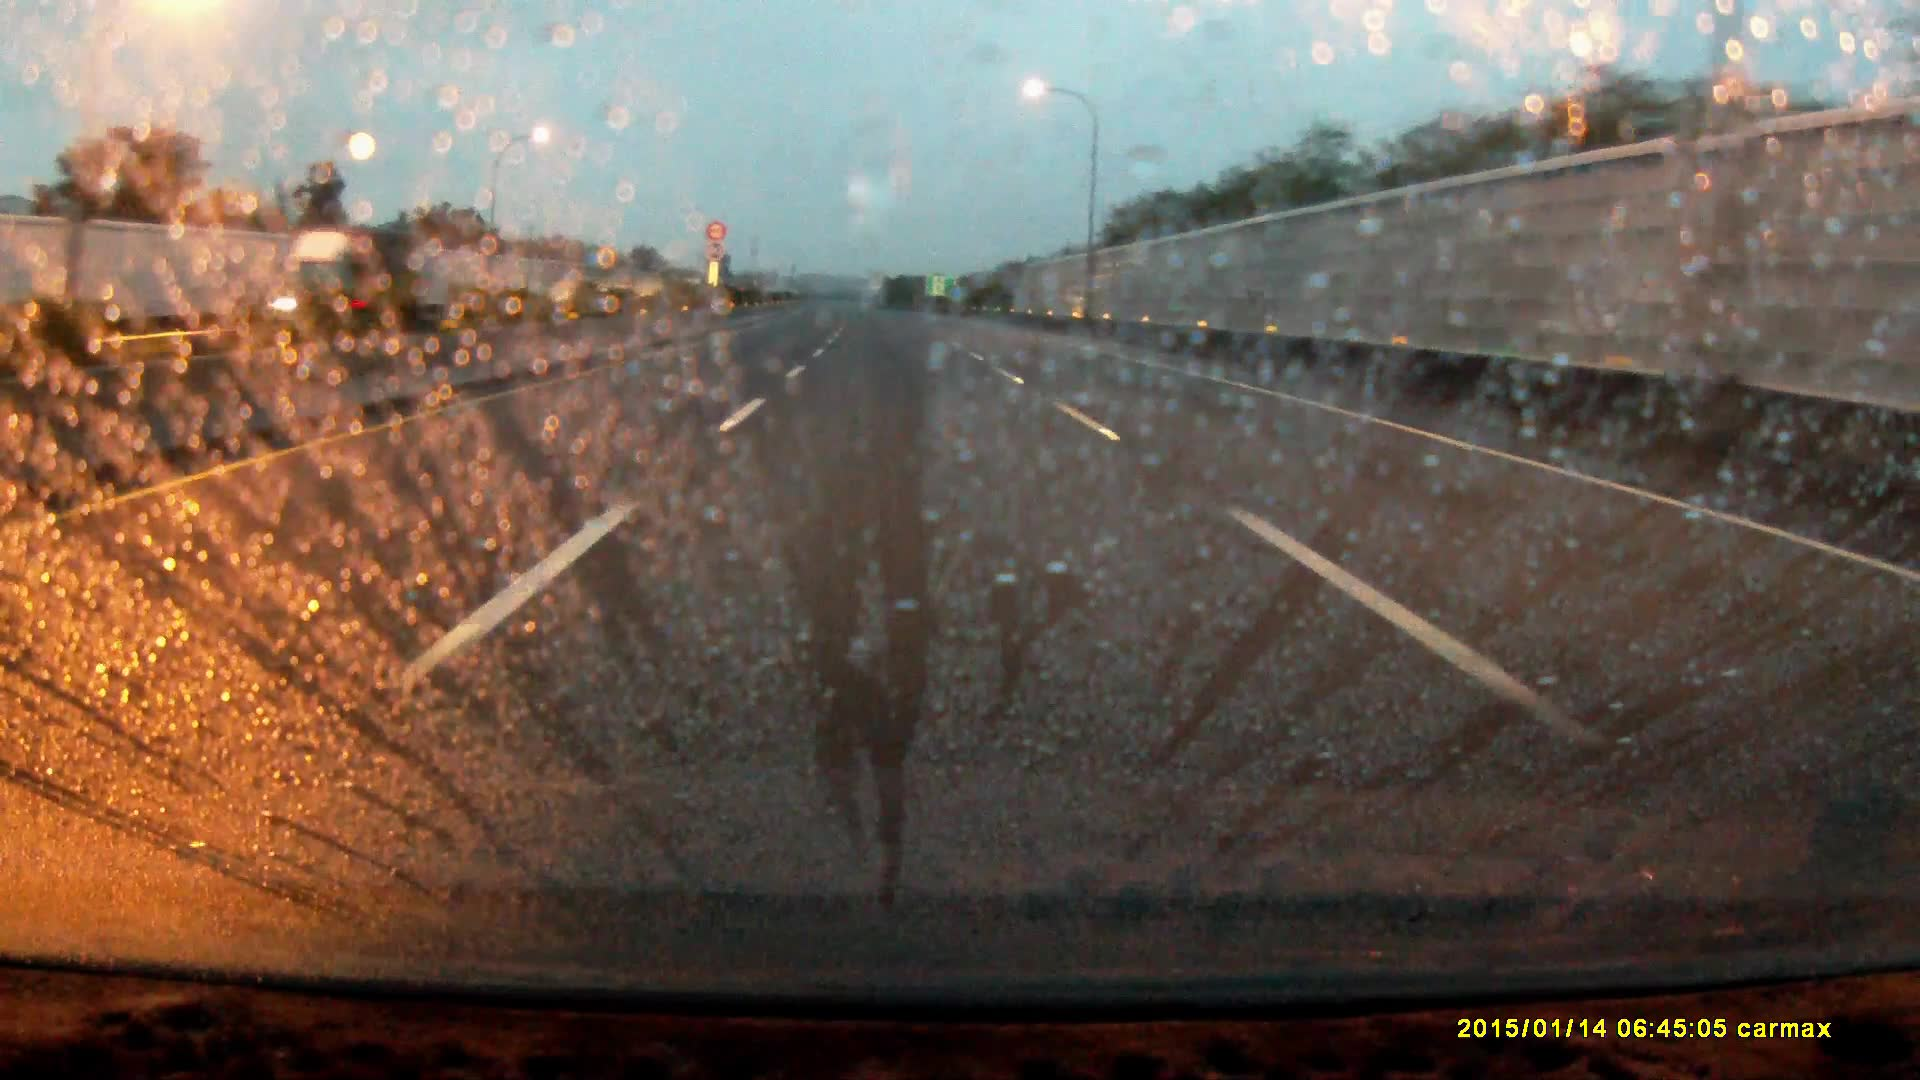vehicle: (281, 222, 414, 324)
